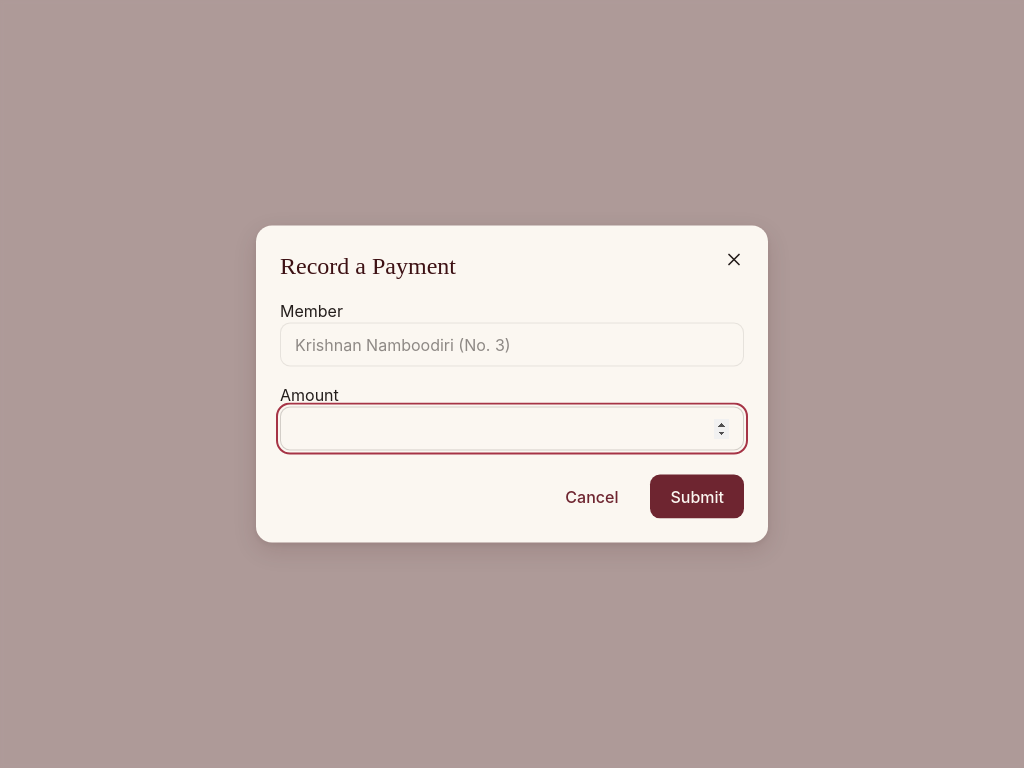
Test: RecordPaymentModal › requires a positive amount
Click the button "Submit": point(697, 496) [650,474,744,518]
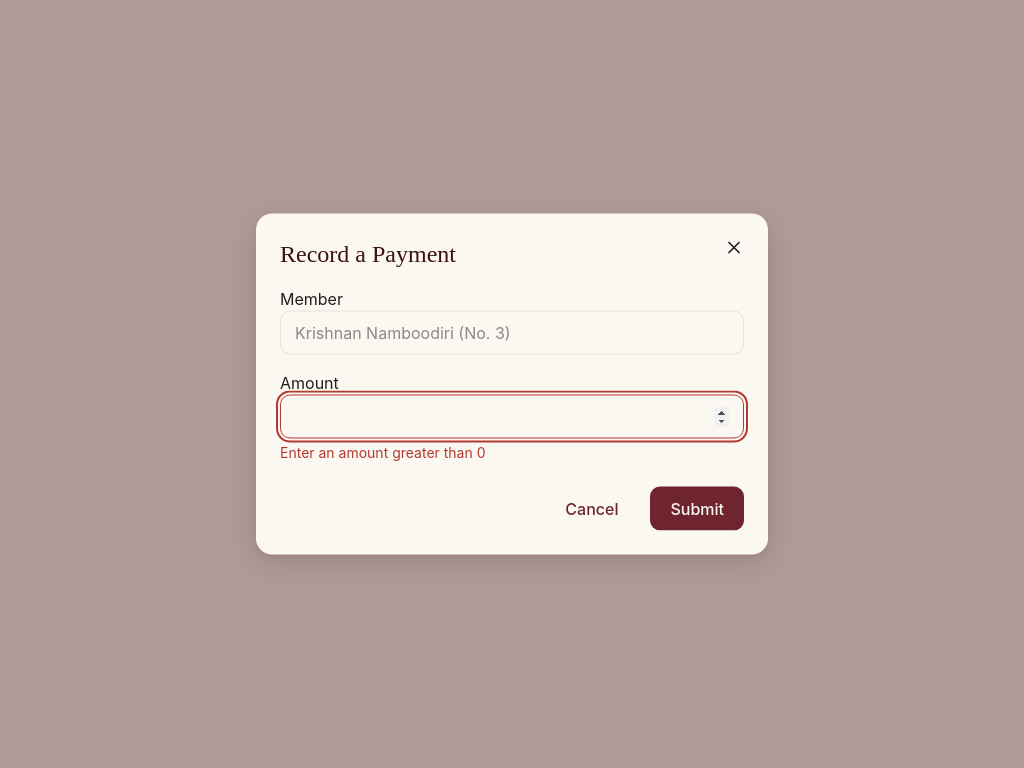
Expected: the text "Enter an amount greater than 0" is shown, [280,444,486,460]
